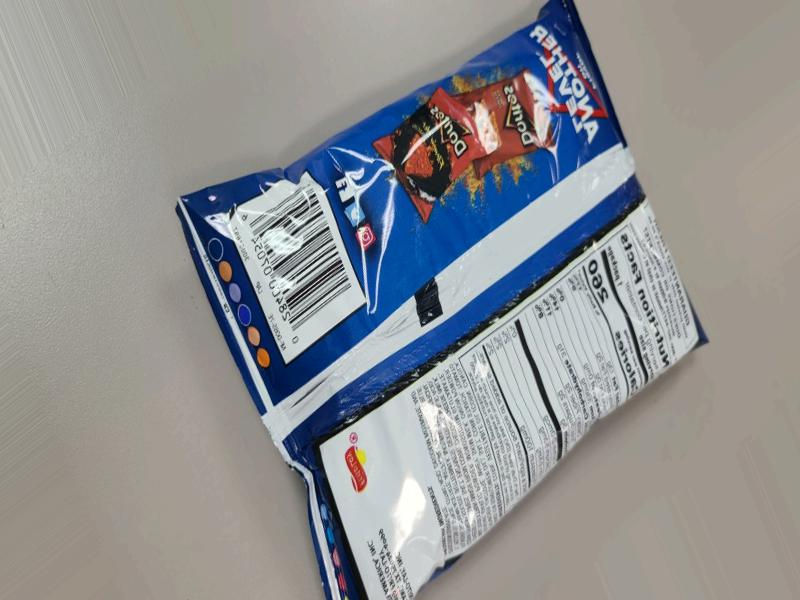doritos: (192, 33, 798, 548)
